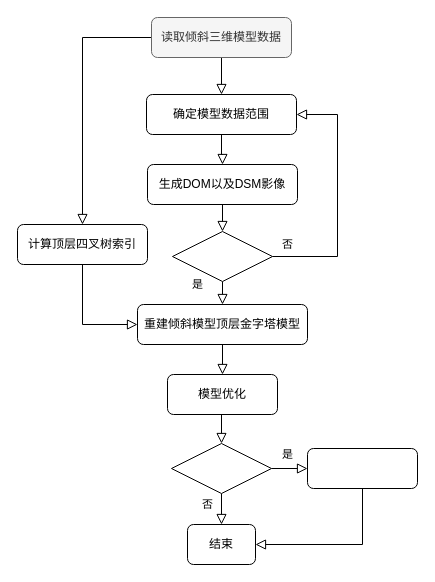
Image size: 435x582. Some labels were removed from this diagram. Each missing label, with the centre of its shape:
格式转换: pixel 221 468
生成成功: pixel 222 256
转换为3DTiles: pixel 362 468
